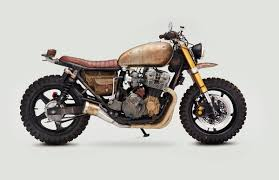motorcycle: (17, 22, 247, 144)
